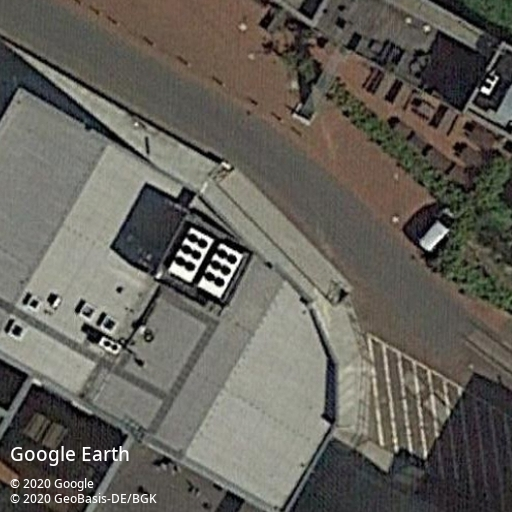Chiller: (166, 226, 215, 284), (196, 242, 244, 299), (479, 73, 499, 94), (99, 336, 123, 353)
